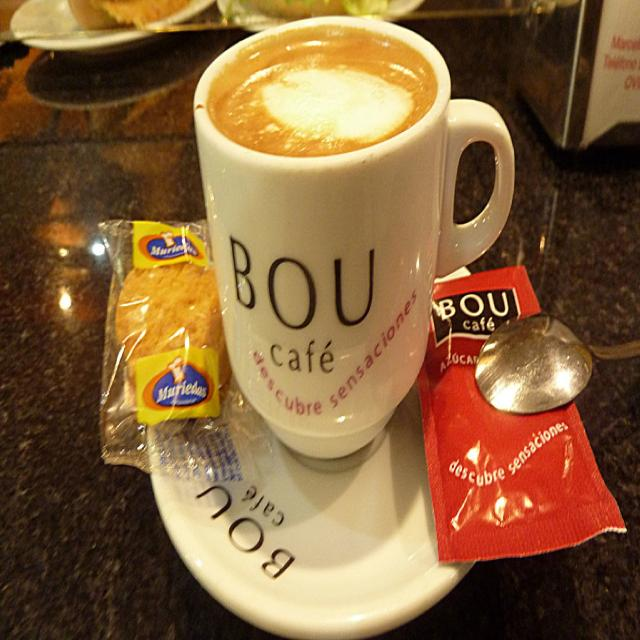Coffee: (203, 18, 440, 155)
Tea: (204, 32, 438, 157)
